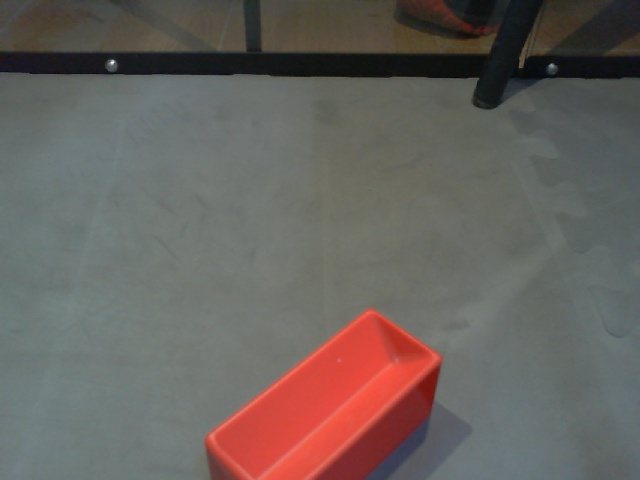RedSample: (200, 304, 446, 480)
